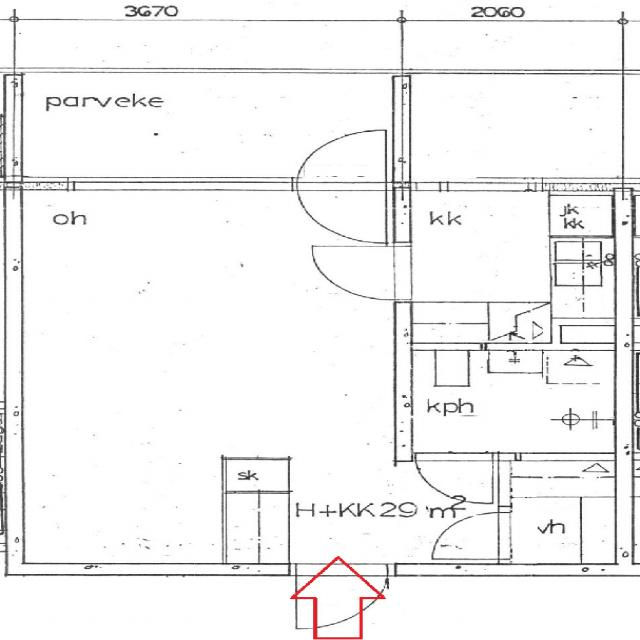door: (295, 564, 388, 636), (296, 177, 385, 247), (296, 120, 385, 190), (311, 246, 411, 300), (418, 452, 492, 509), (424, 511, 510, 560)
